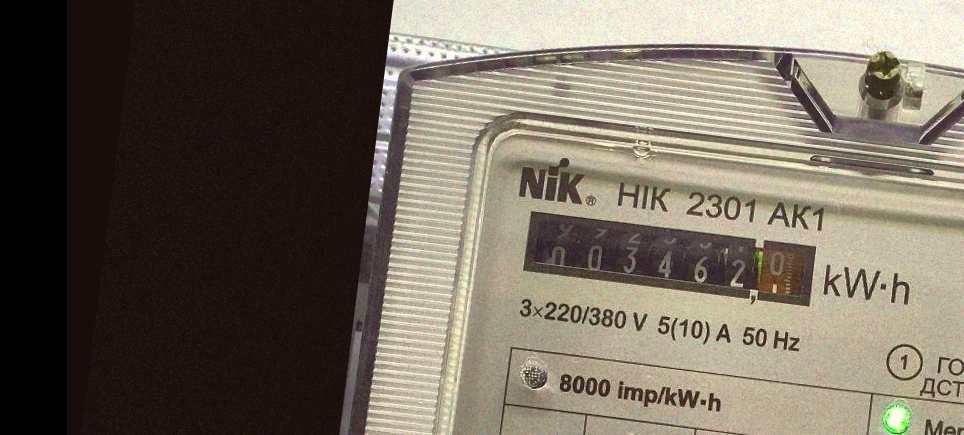0: (585, 240, 606, 271), (767, 248, 788, 278), (547, 241, 569, 267)
2: (728, 255, 749, 289)
3: (619, 243, 641, 277)
4: (656, 246, 677, 280)
6: (690, 250, 714, 287)
9: (553, 220, 575, 241)
screen: (509, 196, 830, 325)
